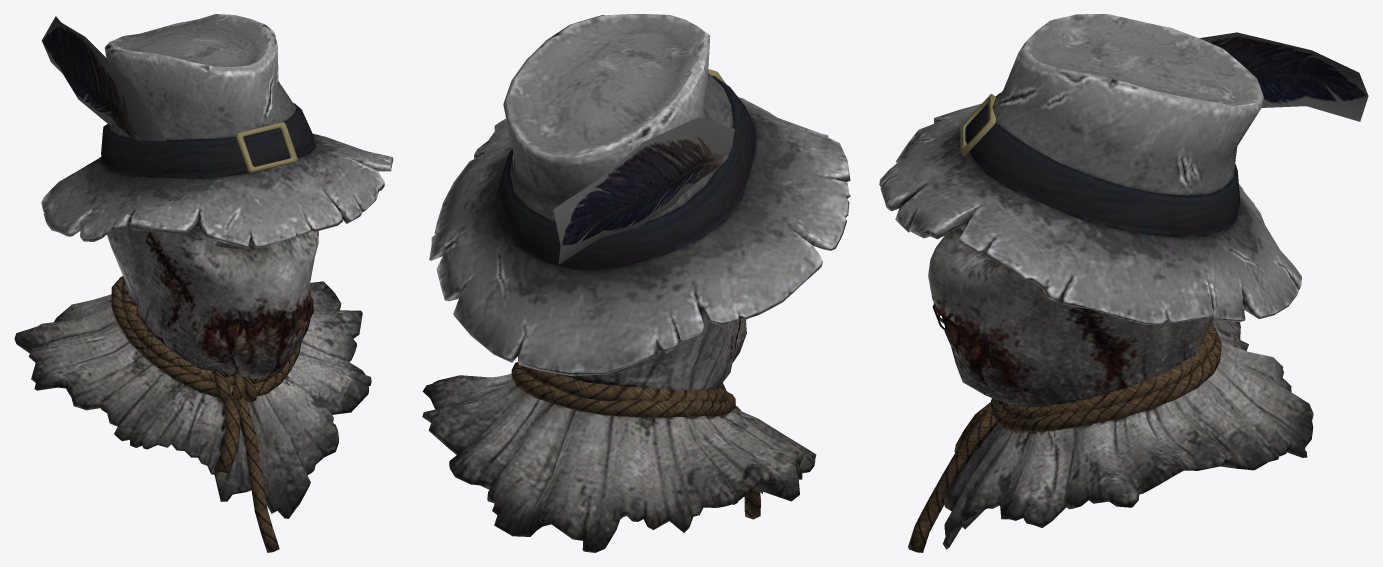
The model's file is SurvivorMale_Head_Mask_Scarecrow_LOD0.glb.
3 renders of one model, left to right at view 1: azimuth 30°, elevation 25°; view 2: azimuth 150°, elevation 25°; view 3: azimuth 270°, elevation 25°, orthographic. The views are drawn at different scales.
Parts seen in each view (by area): view 1: Hoodie; view 2: Hoodie; view 3: Hoodie.
Part boxes in pixels (bbox=[...]): Hoodie: bbox=[14, 14, 393, 552]; Hoodie: bbox=[422, 14, 850, 552]; Hoodie: bbox=[879, 14, 1368, 552].
Size of the model in its own units: 0.3269 by 0.4474 by 0.3802.
Materials: 1 (1 with a texture image).
